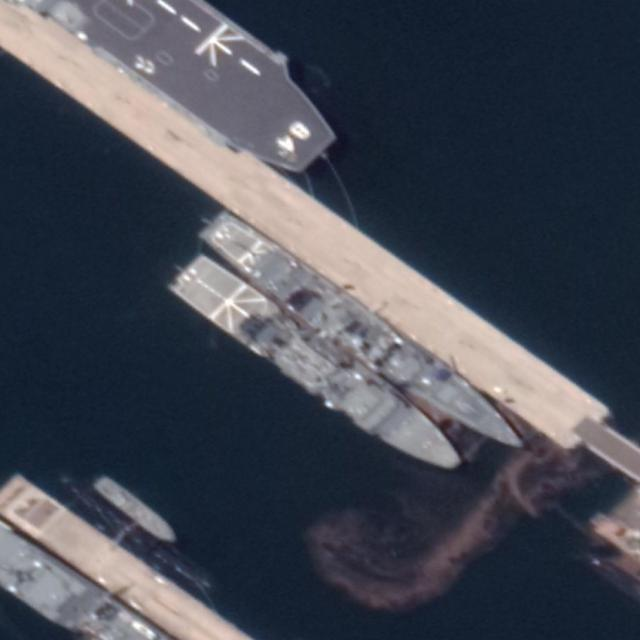Aircraft Carrier: (19, 1, 349, 180)
Destroyer: (191, 204, 537, 468), (164, 248, 476, 492)
Other Warship: (90, 472, 182, 548)
Submarine: (55, 471, 217, 598)
